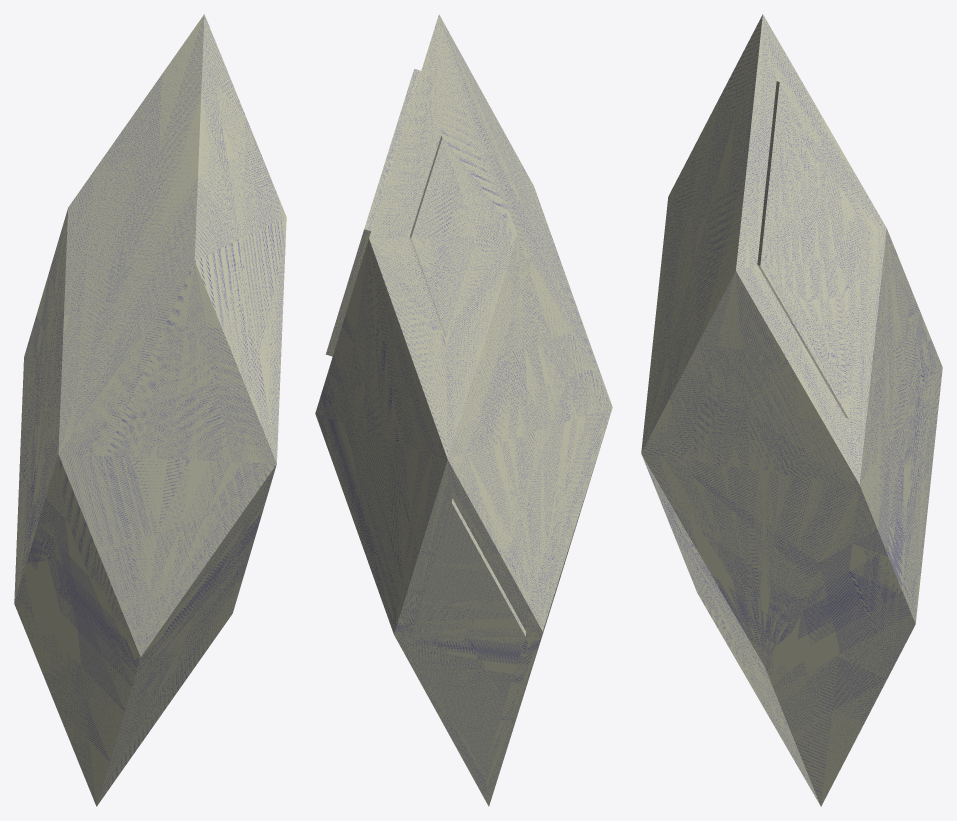
The model's file is Menhir2relief.dae.
3 renders of one model, left to right at view 1: azimuth 30°, elevation 25°; view 2: azimuth 150°, elevation 25°; view 3: azimuth 270°, elevation 25°, orthographic. The views are drawn at different scales.
Parts seen in each view (by area): view 1: SketchUp; view 2: SketchUp (×4); view 3: SketchUp (×2).
Part boxes in pixels (x1,y1,x2,y2): SketchUp: (14, 14, 286, 806); SketchUp (×4): (315, 14, 612, 806); SketchUp (×2): (641, 14, 942, 806).
Size of the model in its own units: 14.33 by 14.34 by 43.76.
